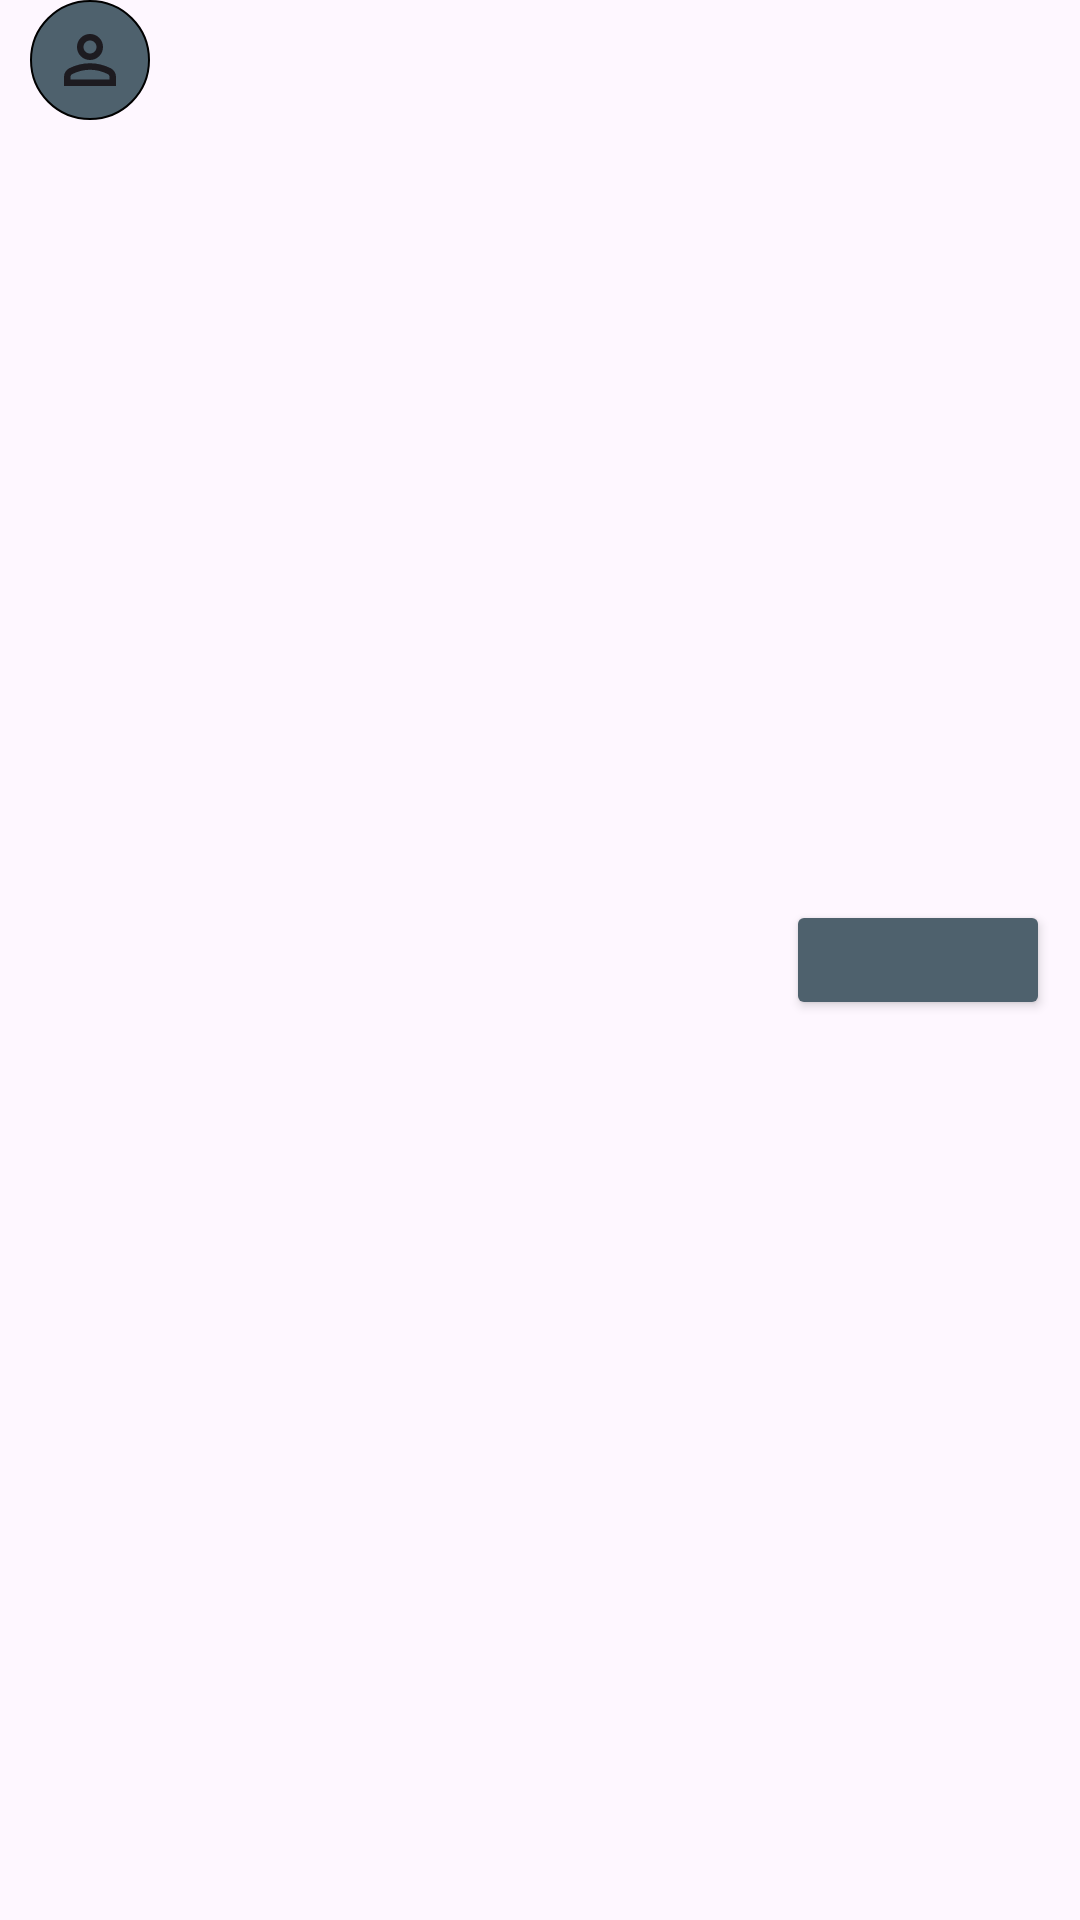

Icon click points for this 1080×1920 phone screenshot, format (x,y):
profile: (90,60)
